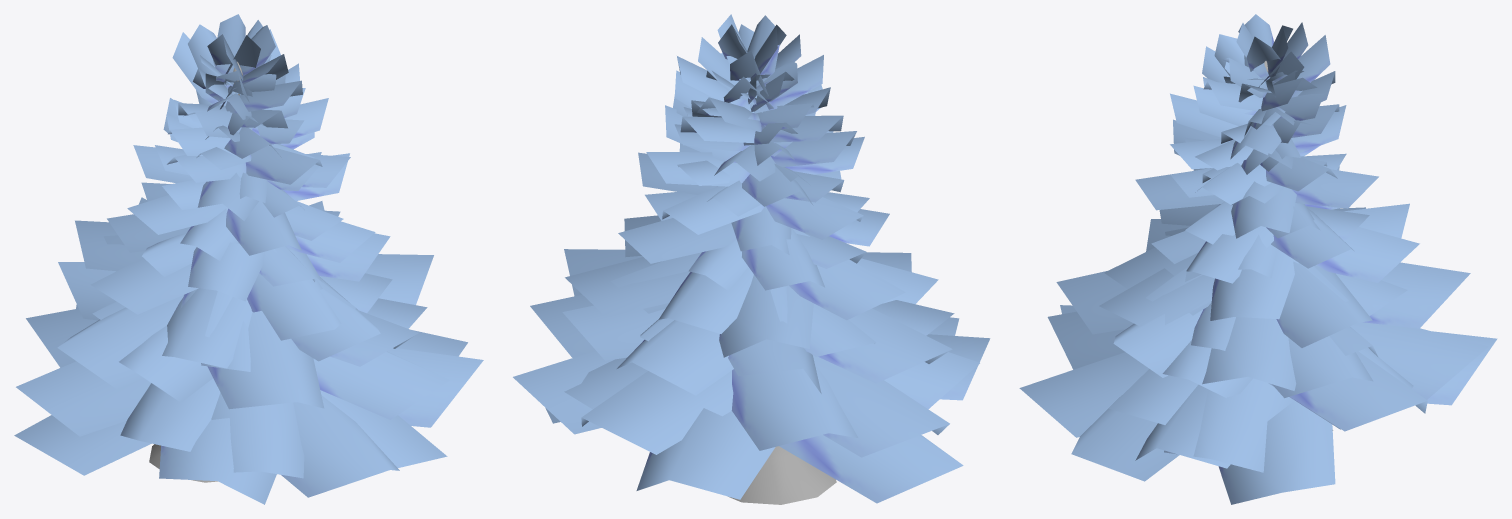
Rendered from Yaro_TallPine_Texture_5 1.fbx.
3 renders of one model, left to right at view 1: azimuth 30°, elevation 25°; view 2: azimuth 150°, elevation 25°; view 3: azimuth 270°, elevation 25°, orthographic. The views are drawn at different scales.
Visible parts, largest first — view 1: FatLeaves; view 2: FatLeaves, BaseTree; view 3: FatLeaves.
Part boxes in pixels (left/top/right/bottom): FatLeaves: left=14, top=14, right=483, bottom=504; FatLeaves: left=513, top=14, right=990, bottom=503; BaseTree: left=728, top=446, right=836, bottom=504; FatLeaves: left=1019, top=14, right=1497, bottom=504.
Bounding box in the file's own units: 236 × 233 × 239.
